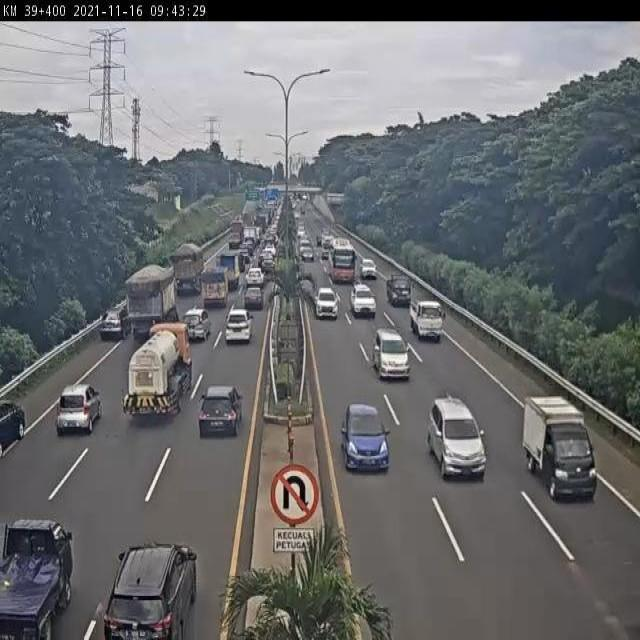Bus: (327, 238, 356, 284)
Car: (94, 537, 213, 640), (0, 518, 71, 640), (428, 394, 486, 479), (341, 402, 392, 472), (198, 384, 244, 438), (55, 384, 101, 435), (372, 328, 411, 381), (0, 401, 25, 455), (99, 301, 131, 341), (224, 308, 254, 344), (184, 308, 212, 342), (350, 282, 376, 318), (314, 285, 339, 320), (386, 275, 411, 307), (244, 285, 264, 311), (360, 258, 377, 280), (240, 240, 256, 263), (260, 253, 276, 274), (299, 244, 314, 262), (322, 233, 334, 249), (297, 225, 305, 240), (316, 234, 323, 246)
Truck: (523, 396, 595, 499), (125, 322, 191, 428), (122, 266, 178, 342), (167, 237, 206, 285), (410, 298, 444, 342), (201, 268, 228, 307), (214, 253, 242, 289)
